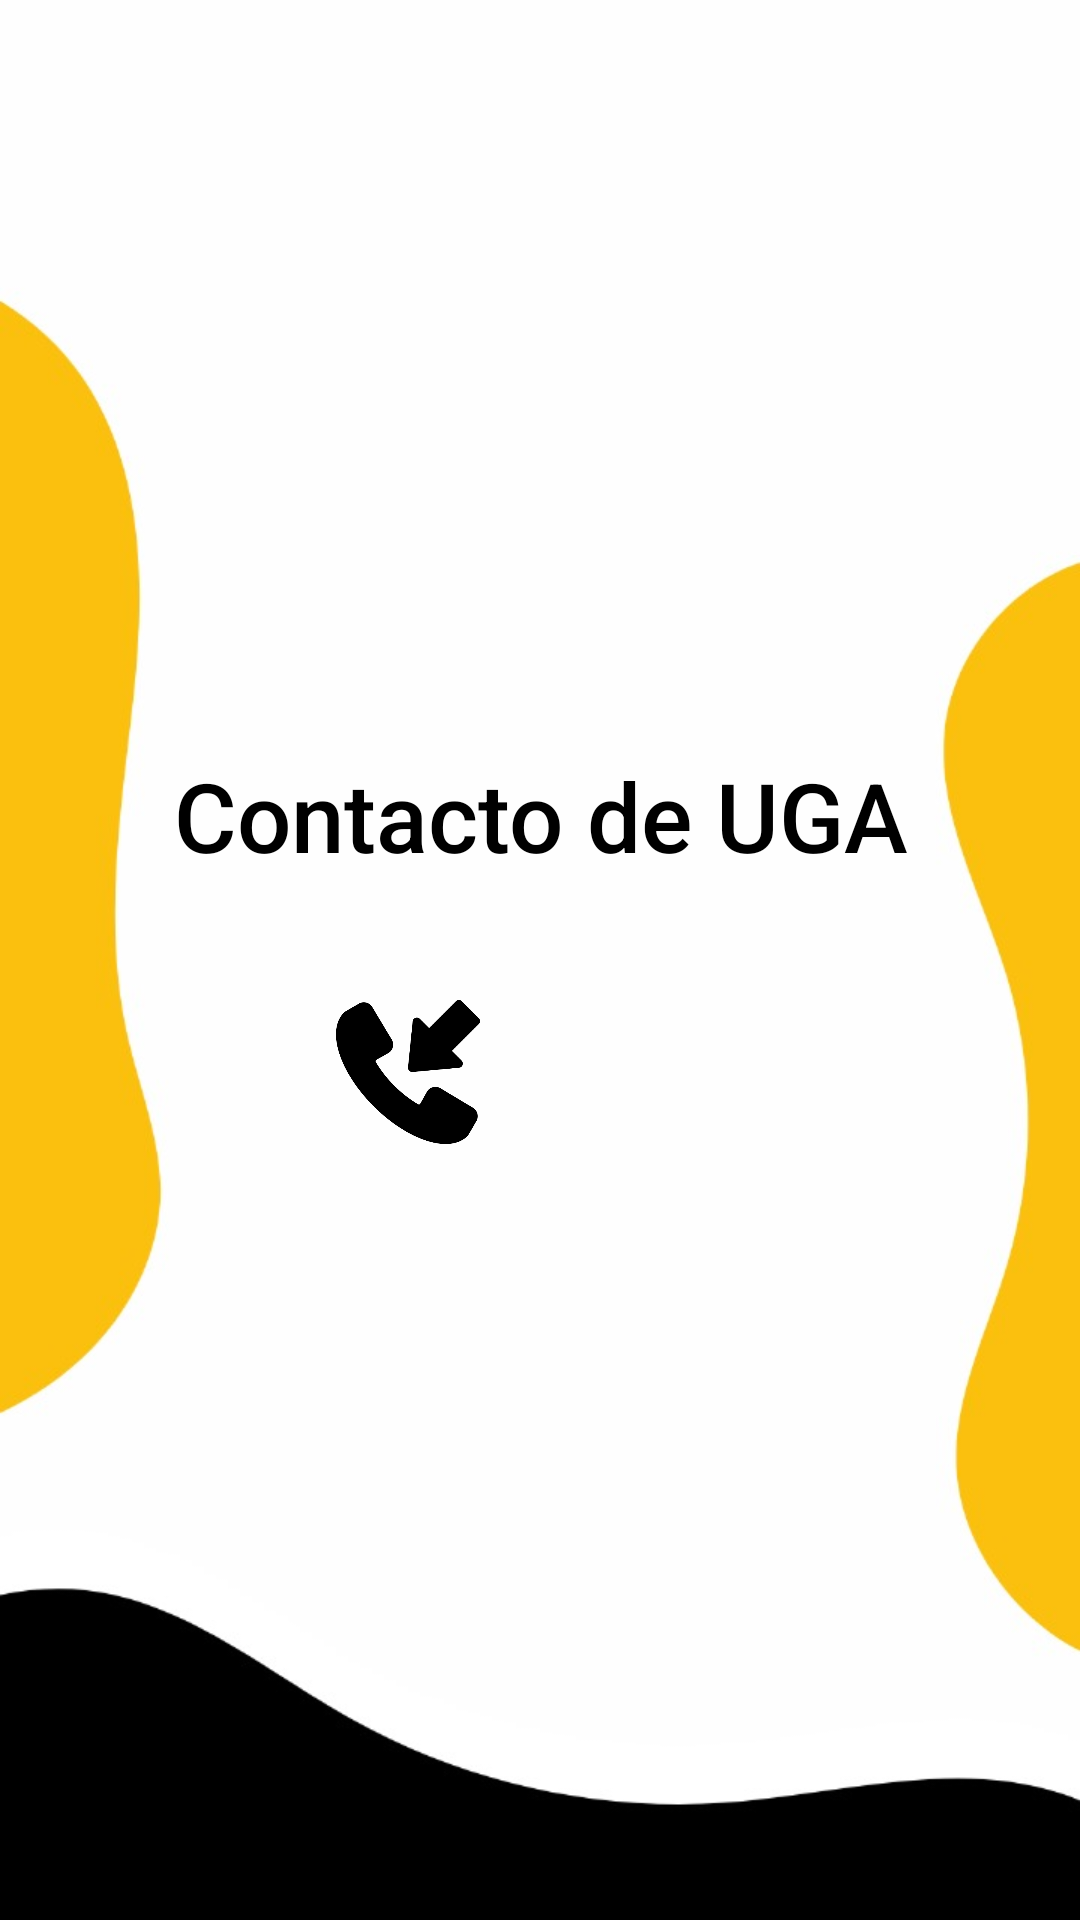

Screen size 1080x1920. Icon name, then its center in pixels as (x=x, y=y):
Llamar: (x=408, y=1072)
